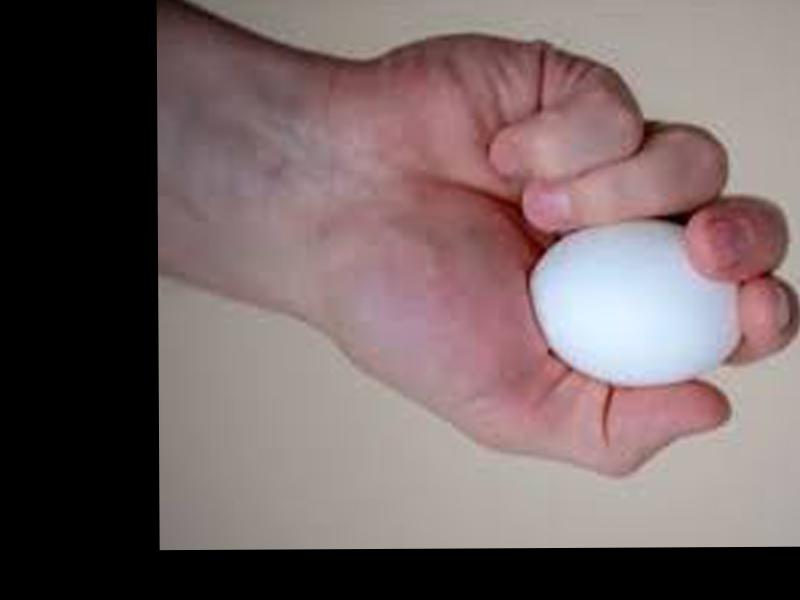Eggs: (525, 221, 740, 386)
